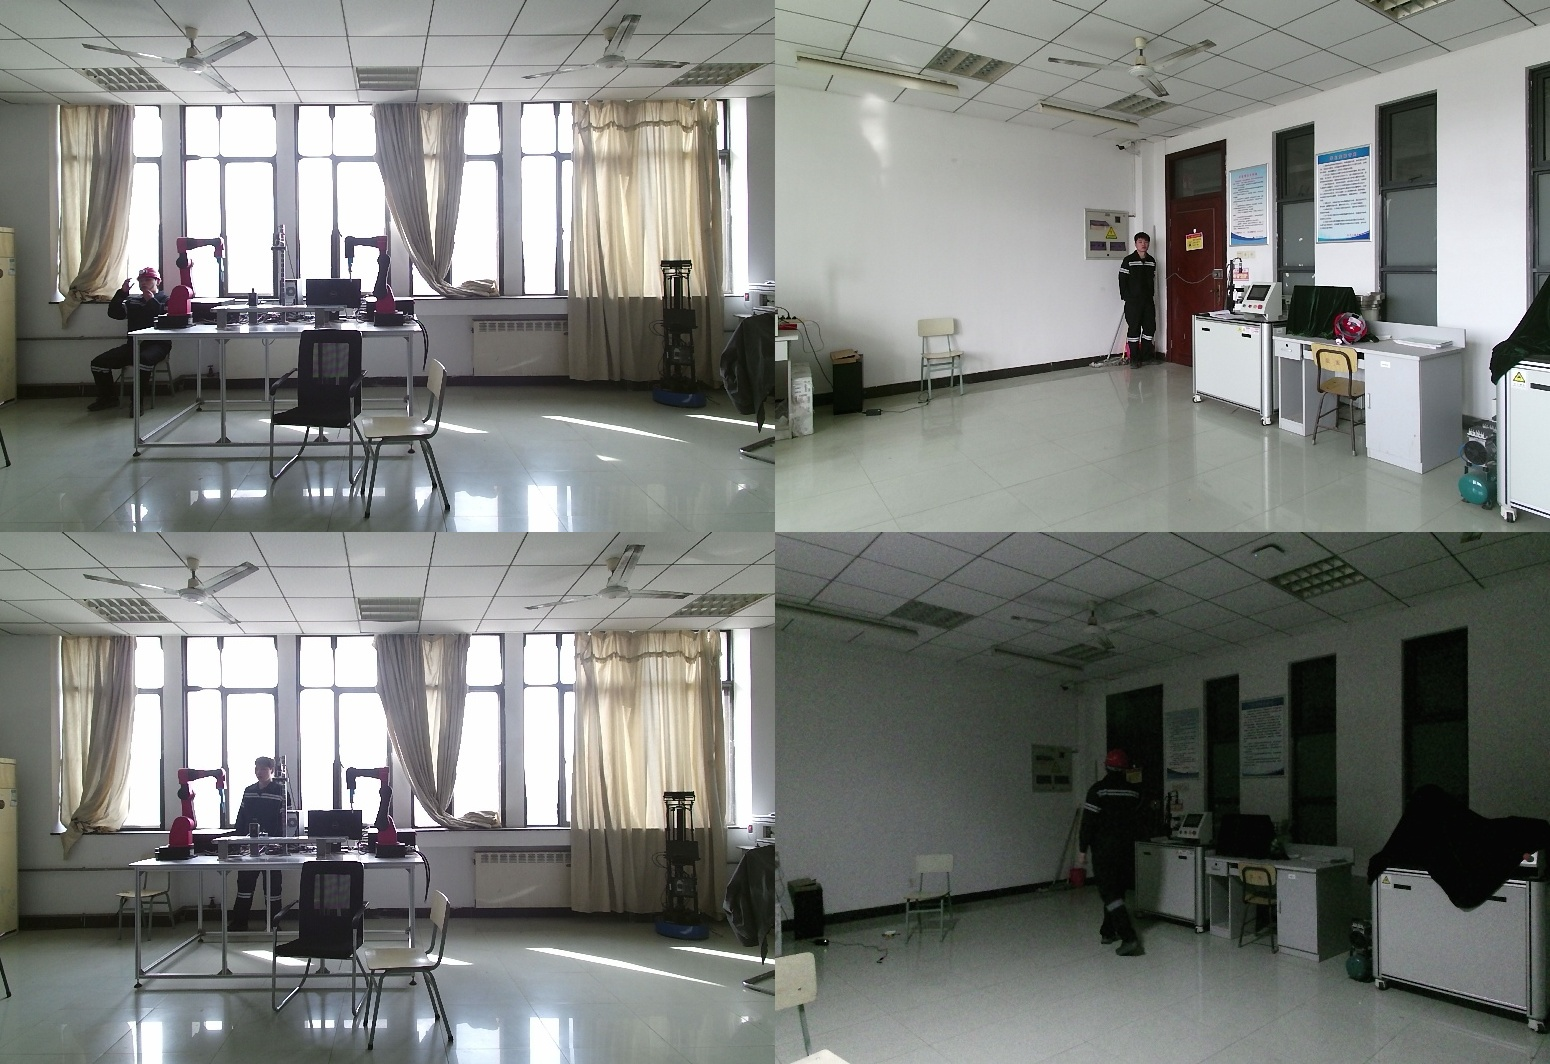person: (1083, 752, 1154, 964), (83, 266, 172, 416), (229, 756, 297, 934), (1119, 232, 1160, 372)
